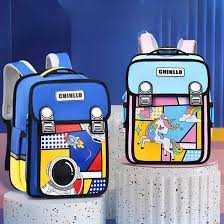bag: (123, 29, 212, 167)
